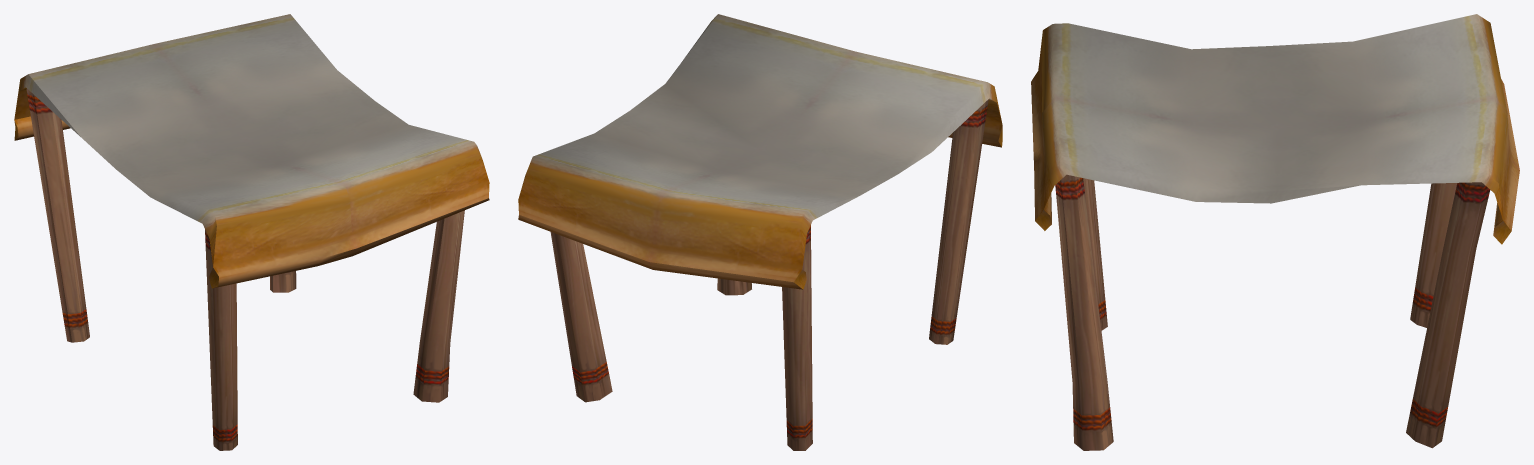
Rendered from daliang_field_b_s01e.fbx.
The picture shows the model from 3 angles, left to right: view 1: azimuth 30°, elevation 25°; view 2: azimuth 150°, elevation 25°; view 3: azimuth 270°, elevation 25°; orthographic projection. The views are drawn at different scales.
Visible parts, largest first — view 1: daliang_field_b_s01e; view 2: daliang_field_b_s01e; view 3: daliang_field_b_s01e.
Part boxes in pixels (box(x1,y1,x2,y2)): daliang_field_b_s01e: box(14, 14, 489, 450); daliang_field_b_s01e: box(518, 14, 1002, 450); daliang_field_b_s01e: box(1031, 14, 1519, 450).
Size of the model in its own units: 393 by 347 by 517.
